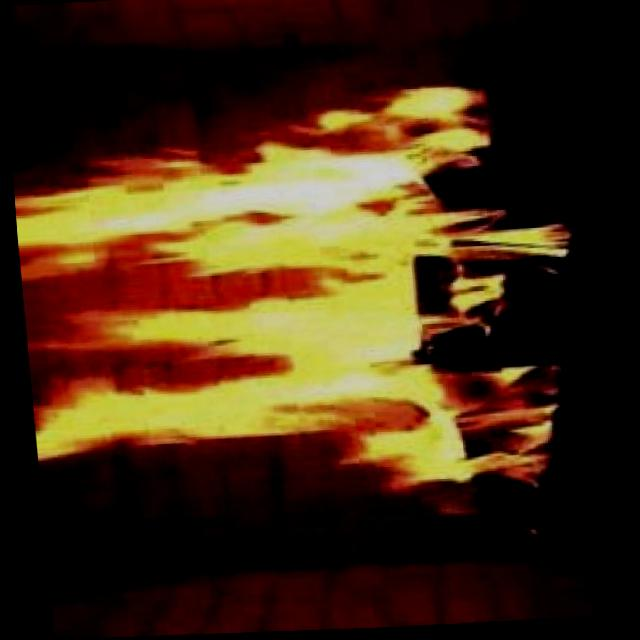Fire: (6, 90, 504, 457)
